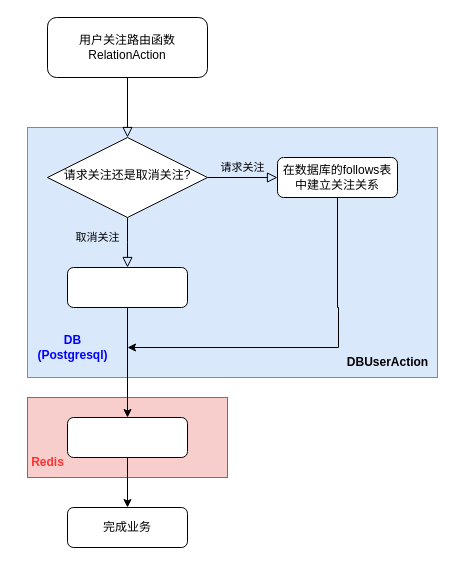
This 455x565 diagram has some shape labels left out. Each missing label, with the centre of its shape:
从数据库的follows表中删除关系: pixel 127 287
更新follow缓存: pixel 127 437
